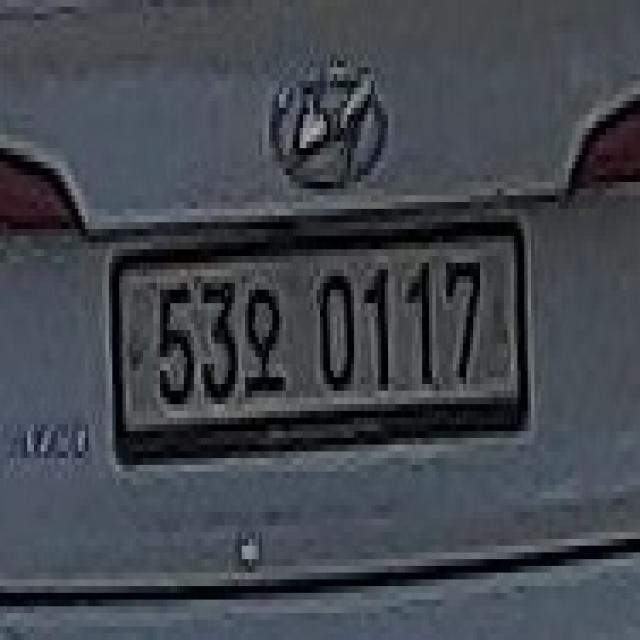0: (316, 242, 358, 424)
1: (392, 229, 442, 438), (357, 236, 395, 424)
3: (201, 243, 238, 431)
5: (146, 276, 198, 418)
7: (436, 235, 497, 418)
license_plate: (106, 202, 524, 499)
o: (238, 283, 293, 391)
